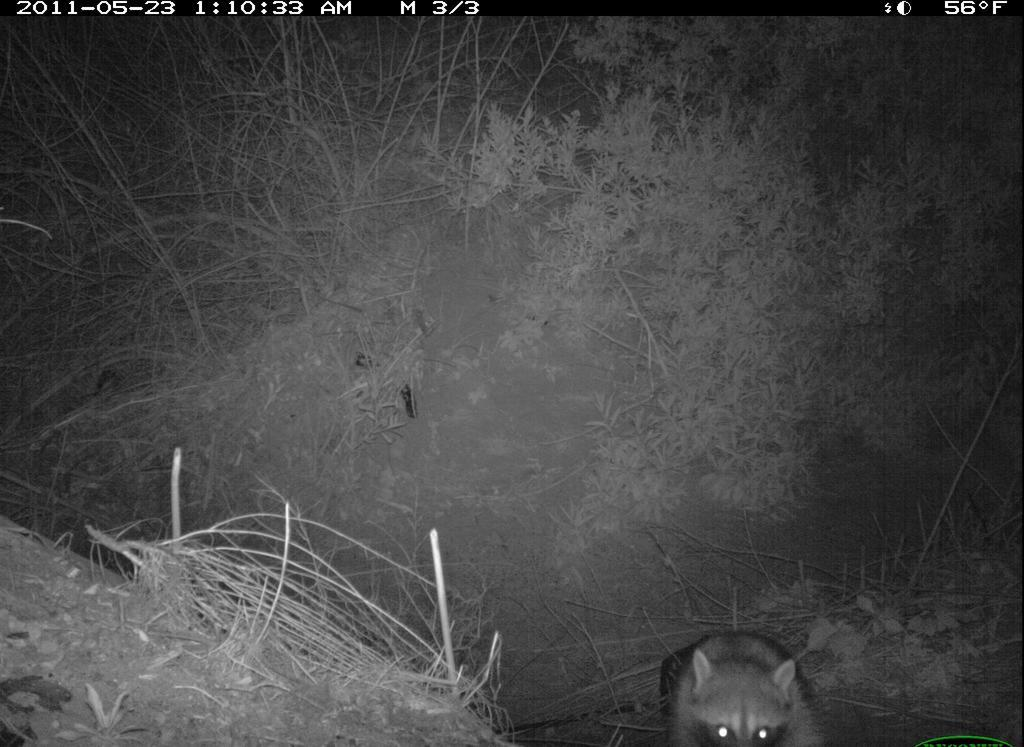raccoon: (649, 626, 833, 747)
